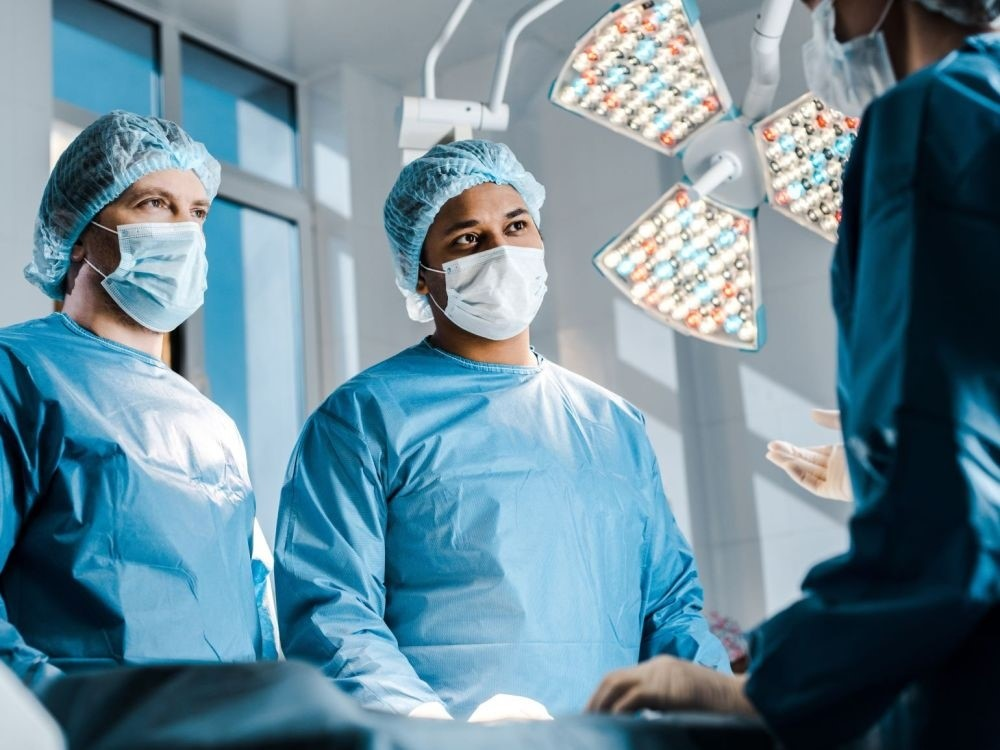face_with_mask: (33, 104, 221, 336), (386, 138, 553, 344), (796, 0, 1000, 122)
